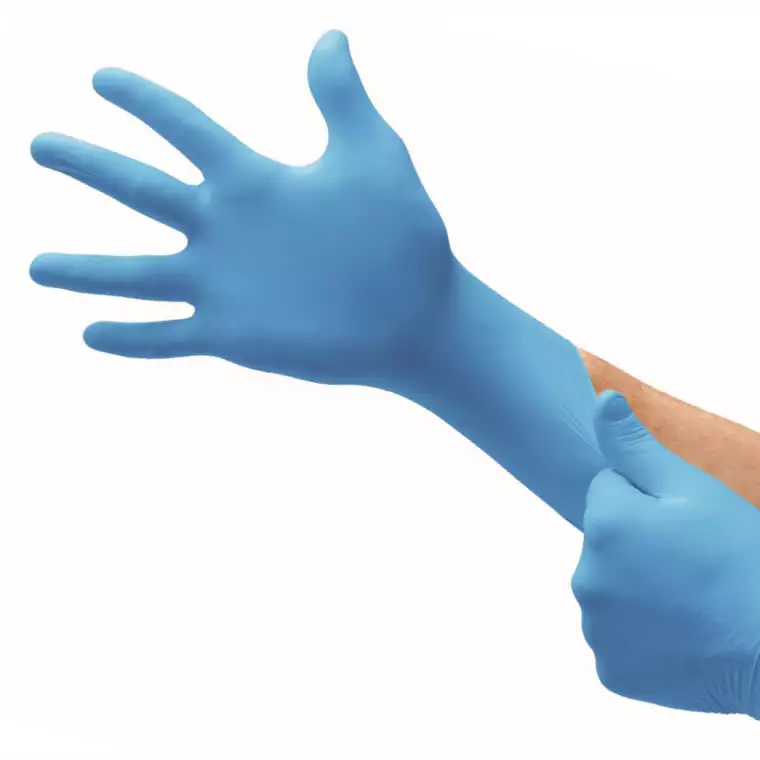Gloves: (28, 31, 494, 448), (551, 386, 760, 738)
